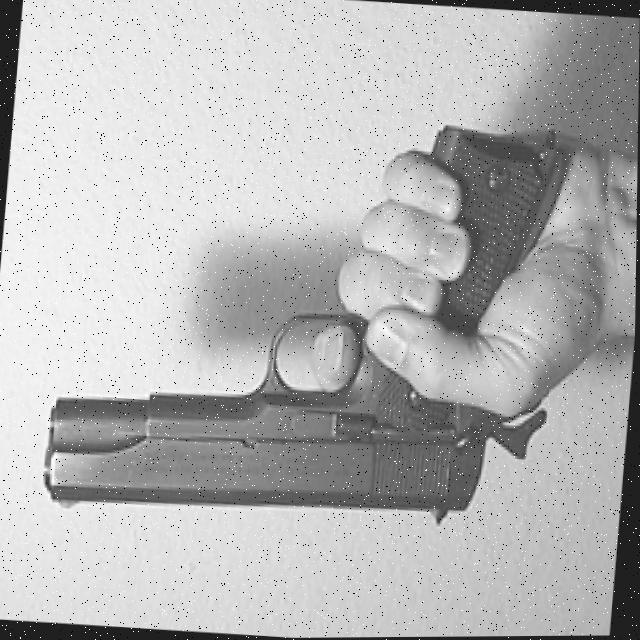pistol: (37, 287, 555, 542)
